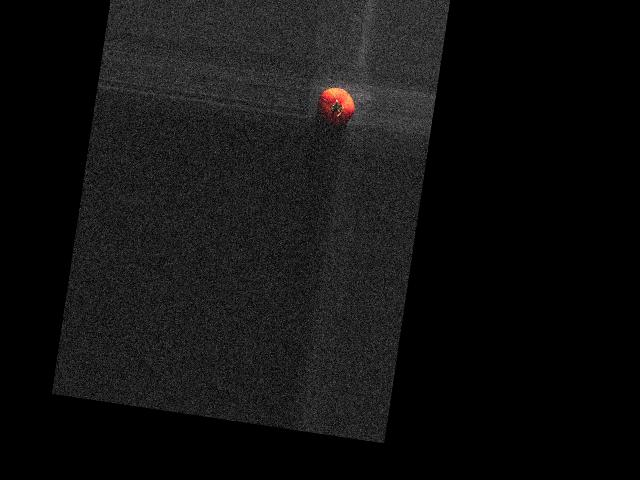tomato: (315, 85, 357, 127)
